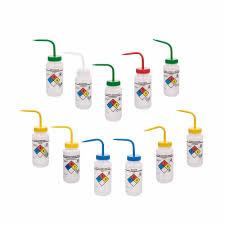LDPE: (169, 95, 216, 180), (90, 47, 130, 131), (29, 31, 69, 110)
